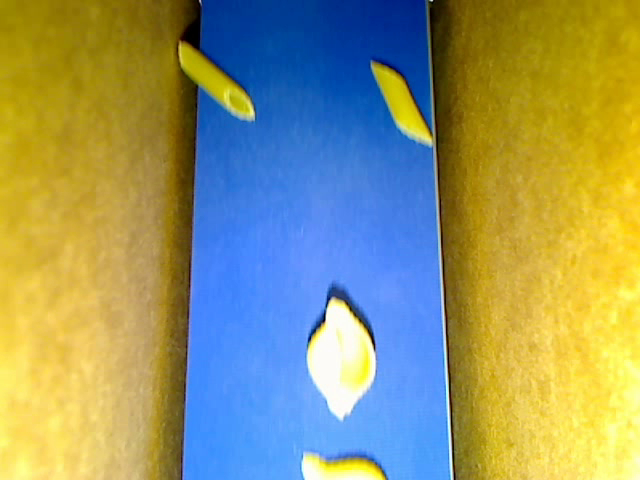penne: (177, 40, 256, 120), (369, 60, 432, 146)
shell: (306, 297, 377, 420), (300, 451, 386, 479)
